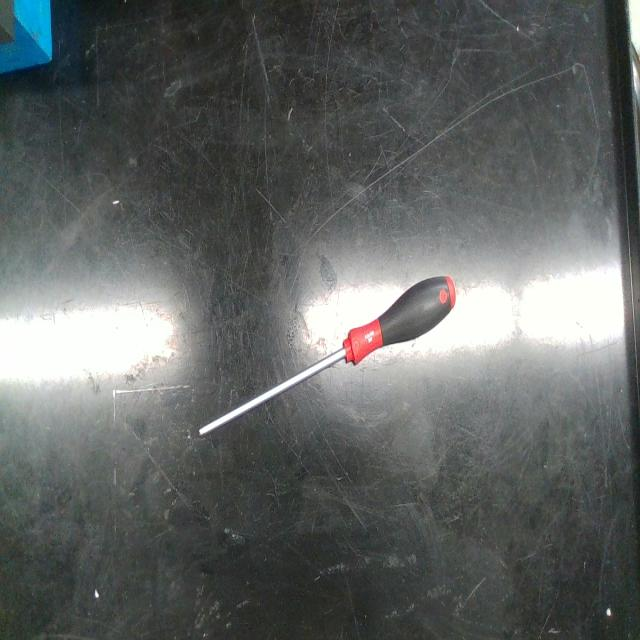Screwdriver: (199, 276, 456, 436)
